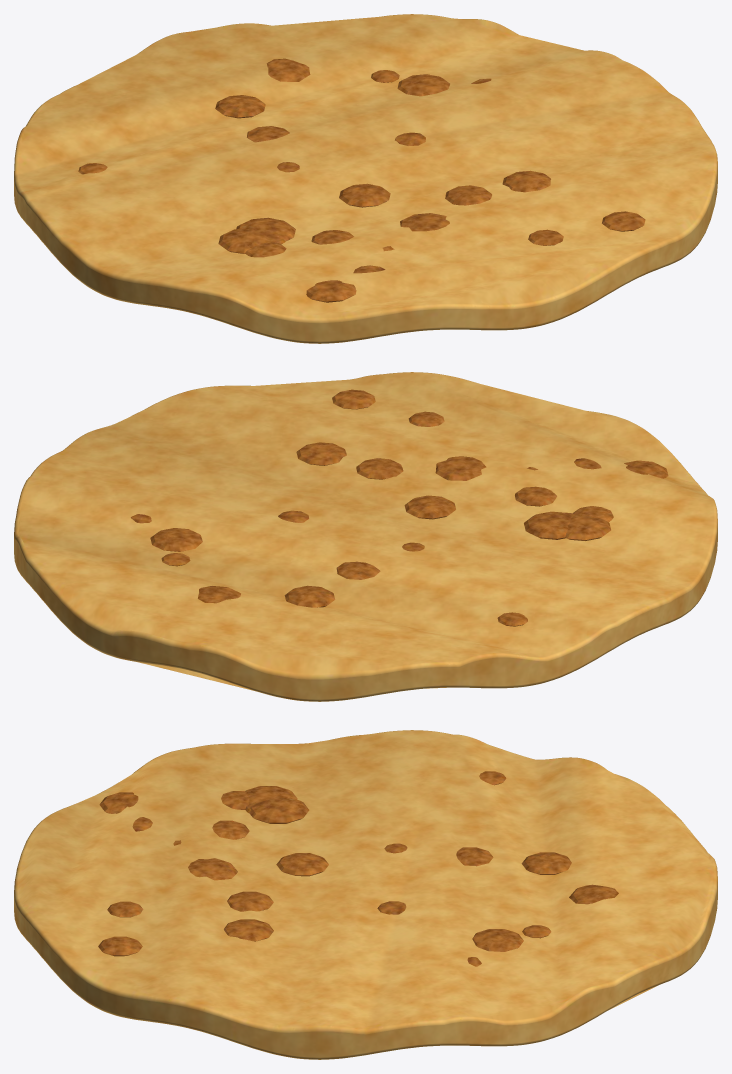
The model's file is papad.glb.
3 renders of one model, top to bottom at view 1: azimuth 30°, elevation 25°; view 2: azimuth 150°, elevation 25°; view 3: azimuth 270°, elevation 25°, orthographic.
Parts seen in each view (by area): view 1: papad; view 2: papad; view 3: papad.
Boxes of the visible parts, x1,y1,x2,y2 form: papad: [14, 14, 717, 343]; papad: [14, 372, 717, 701]; papad: [14, 730, 717, 1059].
Size of the model in its own units: 2 by 0.1284 by 2.
Materials: 1 (1 with a texture image).
